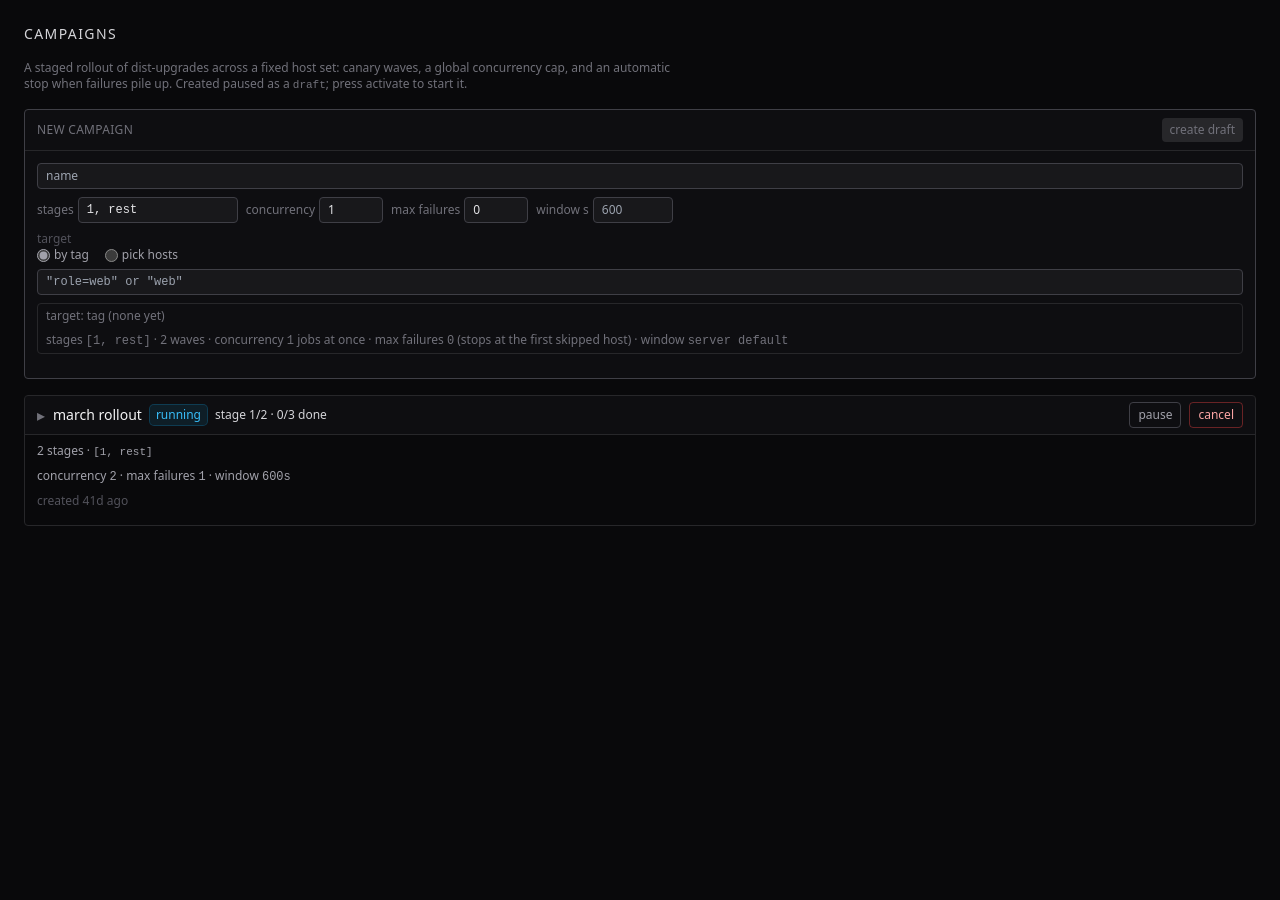
Test: CampaignsView › cancels a running campaign after confirmation
Expected: the text "march rollout" is shown, [53,405,142,425]
Click the button "cancel" at [1216, 415], box [1190,402,1243,428]
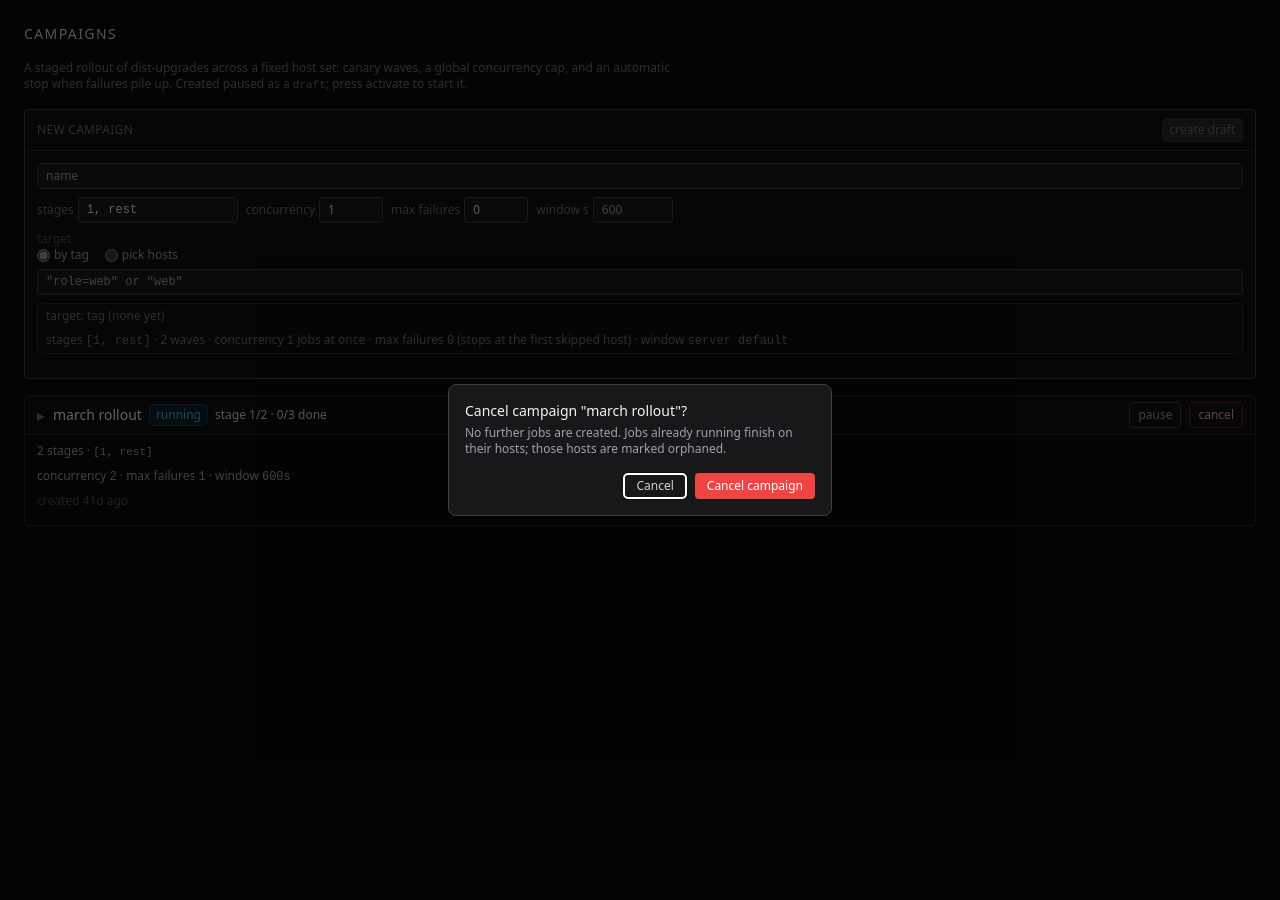
Click the button "Cancel campaign" at [755, 486], box [695,473,815,499]
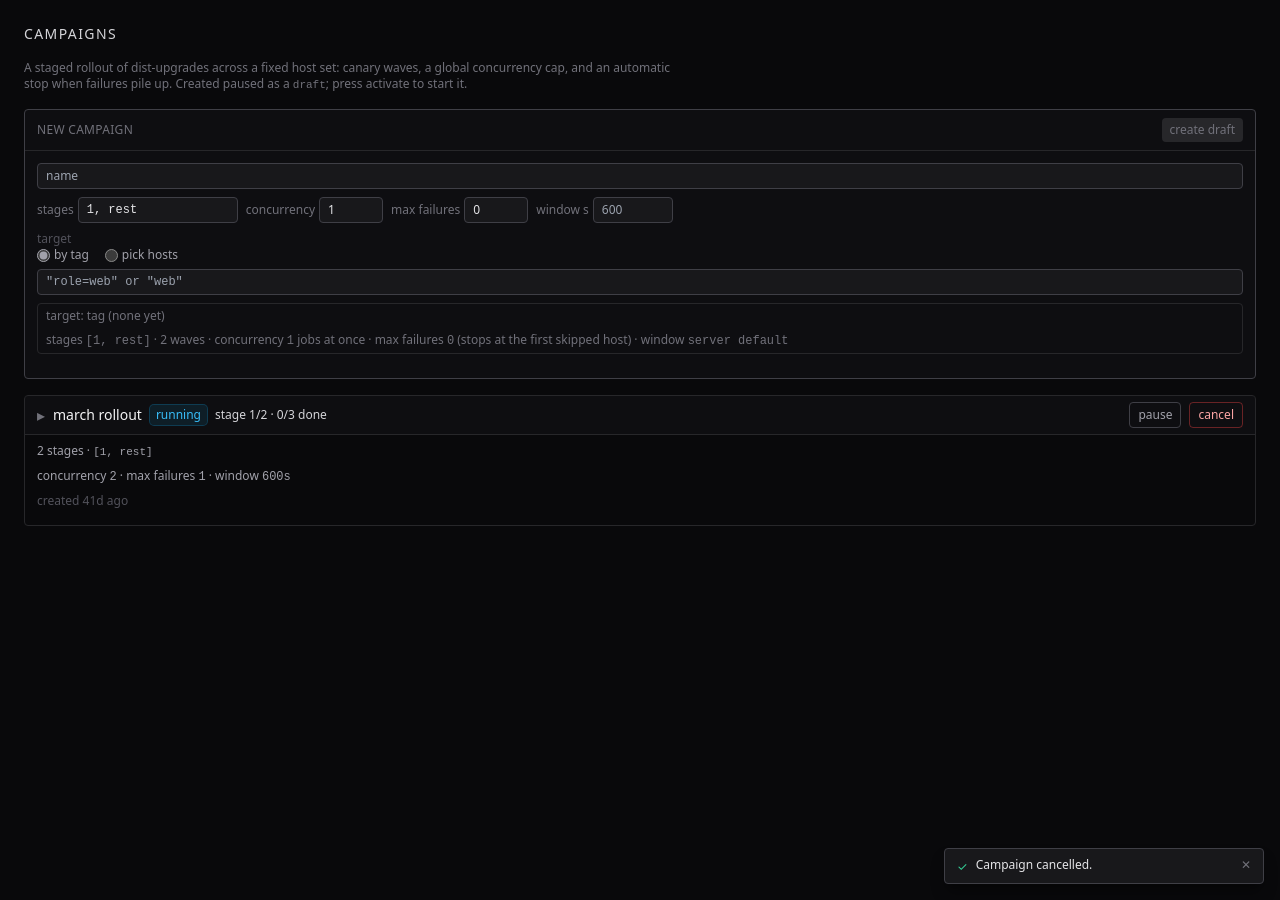
Expected: the text "Campaign cancelled." is shown, [976,856,1092,873]
